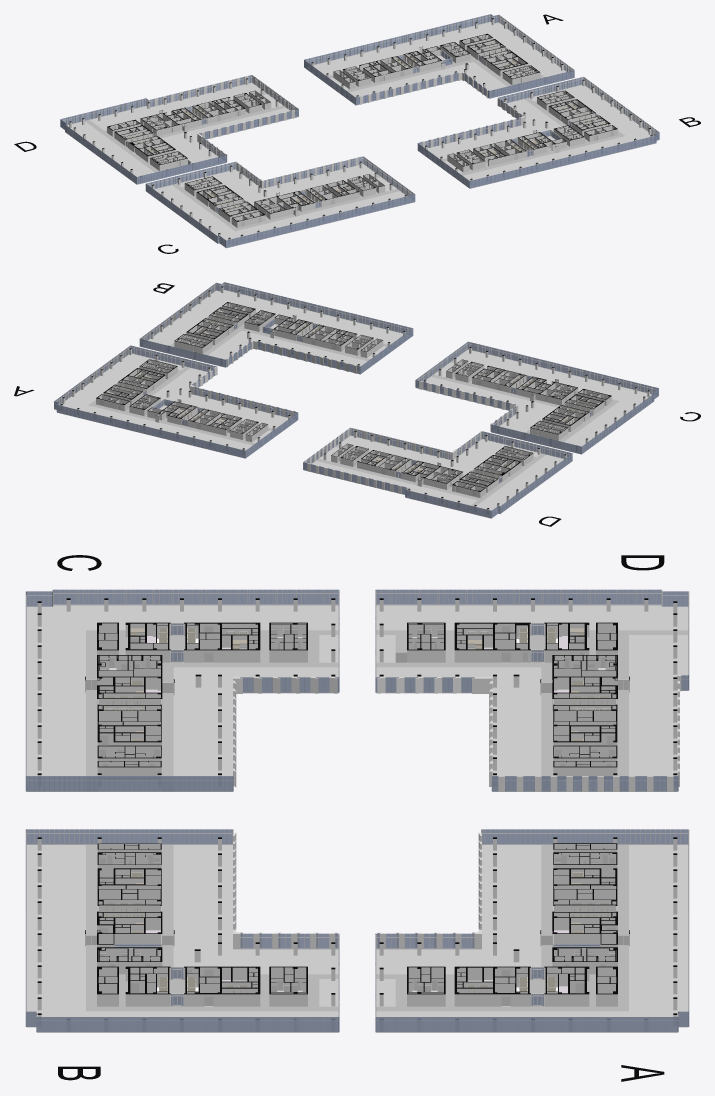
3 renders of one model, top to bottom at view 1: azimuth 30°, elevation 25°; view 2: azimuth 150°, elevation 25°; view 3: azimuth 270°, elevation 25°, orthographic. The views are drawn at different scales.
Visible parts, largest first — view 1: 10F-Floor, 10F-Wall, 10F-Window-out, 10F-Wall-out, 10F-Pillar, 10F-Door, 10F-Elevator, 10F-toiletdoor, 10F-GlassDoor; view 2: 10F-Floor, 10F-Wall, 10F-Window-out, 10F-Wall-out, 10F-Pillar, 10F-Door, 10F-Elevator, 10F-toiletdoor, 10F-GlassDoor; view 3: 10F-Floor, 10F-Wall, 10F-Window-out, 10F-Pillar, 10F-Wall-out, 10F-Door, 10F-Elevator, 10F-GlassDoor, 10F-toiletdoor, 10F-text.
Boxes of the visible parts, x1=… form: 10F-Floor: x1=67, y1=22, x2=657, y2=248; 10F-Wall: x1=107, y1=33, x2=617, y2=227; 10F-Window-out: x1=60, y1=14, x2=659, y2=247; 10F-Wall-out: x1=147, y1=71, x2=525, y2=188; 10F-Pillar: x1=69, y1=18, x2=653, y2=243; 10F-Door: x1=111, y1=36, x2=613, y2=226; 10F-Elevator: x1=127, y1=47, x2=597, y2=210; 10F-toiletdoor: x1=149, y1=45, x2=576, y2=211; 10F-GlassDoor: x1=126, y1=47, x2=598, y2=213; 10F-Floor: x1=55, y1=290, x2=651, y2=518; 10F-Wall: x1=96, y1=302, x2=611, y2=498; 10F-Window-out: x1=54, y1=282, x2=658, y2=518; 10F-Wall-out: x1=189, y1=340, x2=518, y2=493; 10F-Pillar: x1=60, y1=286, x2=649, y2=513; 10F-Door: x1=100, y1=304, x2=607, y2=496; 10F-Elevator: x1=116, y1=315, x2=591, y2=480; 10F-toiletdoor: x1=137, y1=313, x2=569, y2=481; 10F-GlassDoor: x1=115, y1=315, x2=592, y2=483; 10F-Floor: x1=26, y1=605, x2=688, y2=1032; 10F-Wall: x1=85, y1=622, x2=629, y2=1006; 10F-Window-out: x1=25, y1=589, x2=689, y2=1032; 10F-Pillar: x1=37, y1=598, x2=677, y2=1030; 10F-Wall-out: x1=233, y1=675, x2=681, y2=949; 10F-Door: x1=86, y1=626, x2=628, y2=1005; 10F-Elevator: x1=104, y1=628, x2=610, y2=991; 10F-GlassDoor: x1=97, y1=623, x2=617, y2=1006; 10F-toiletdoor: x1=99, y1=626, x2=615, y2=991; 10F-text: x1=57, y1=555, x2=664, y2=1081.
Size of the model in its own units: 280 by 5.7 by 149.
